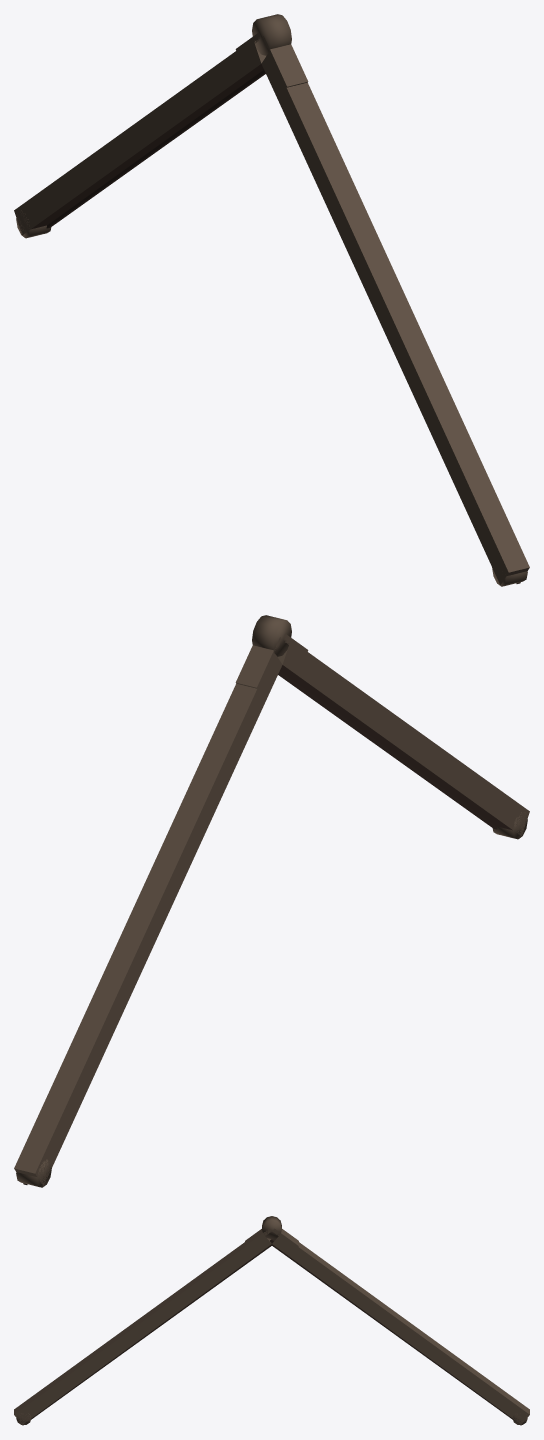
File: kit_timber_thatch_w8_end.glb
3 renders of one model, top to bottom at view 1: azimuth 30°, elevation 25°; view 2: azimuth 150°, elevation 25°; view 3: azimuth 270°, elevation 25°, orthographic. The views are drawn at different scales.
Visible parts, largest first — view 1: kit_timber_thatch_w8_end; view 2: kit_timber_thatch_w8_end; view 3: kit_timber_thatch_w8_end.
Boxes of the visible parts, bbox=[...] form: kit_timber_thatch_w8_end: bbox=[14, 14, 529, 586]; kit_timber_thatch_w8_end: bbox=[14, 615, 529, 1187]; kit_timber_thatch_w8_end: bbox=[14, 1216, 529, 1425].
Size of the model in its own units: 0.22 by 3.9 by 8.9.
